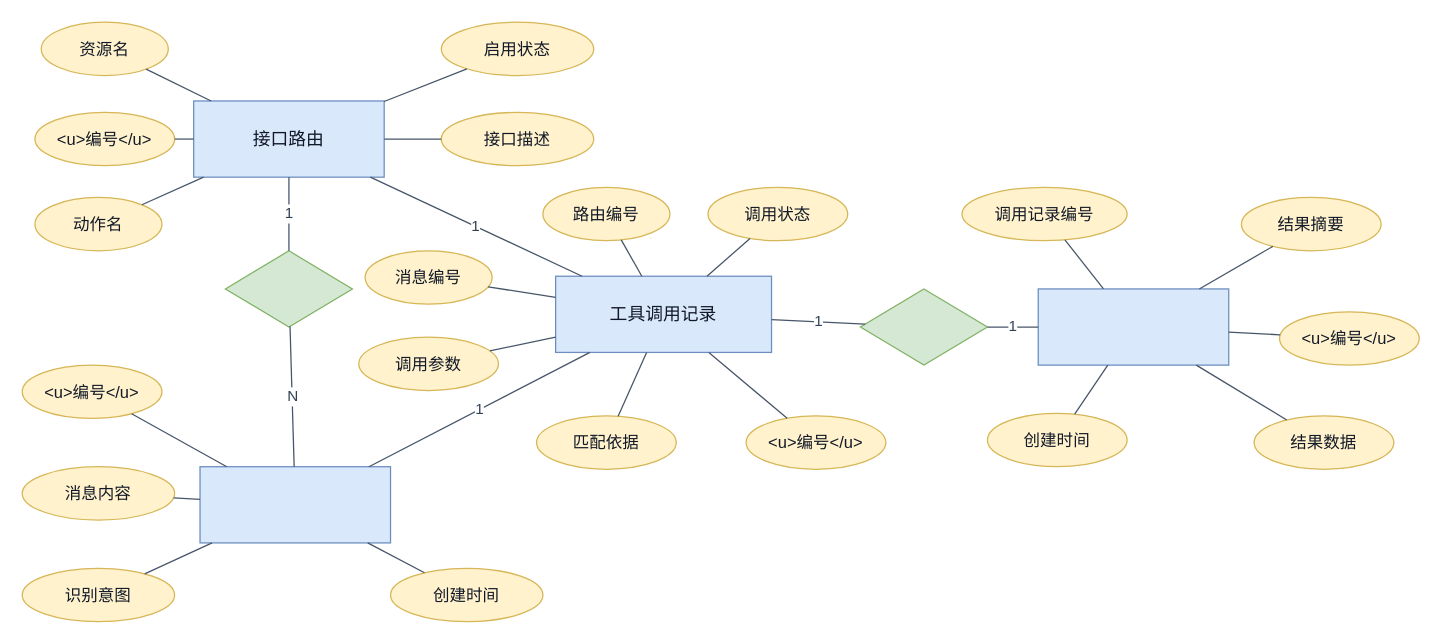
Some shapes in this 1441 by 644 pixel diagram are drawn without their labels. The centre of each missing label's shape, as x and y in pixels:
"产生结果" belongs at (923,326).
"匹配接口" belongs at (288,288).
"用户消息" belongs at (295,504).
"调用结果" belongs at (1133,326).
